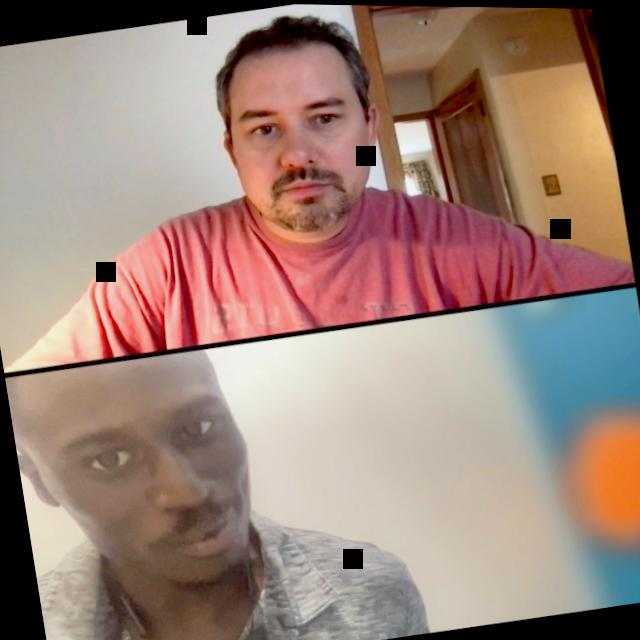NO-Mask: (5, 342, 270, 614), (208, 25, 390, 245)
